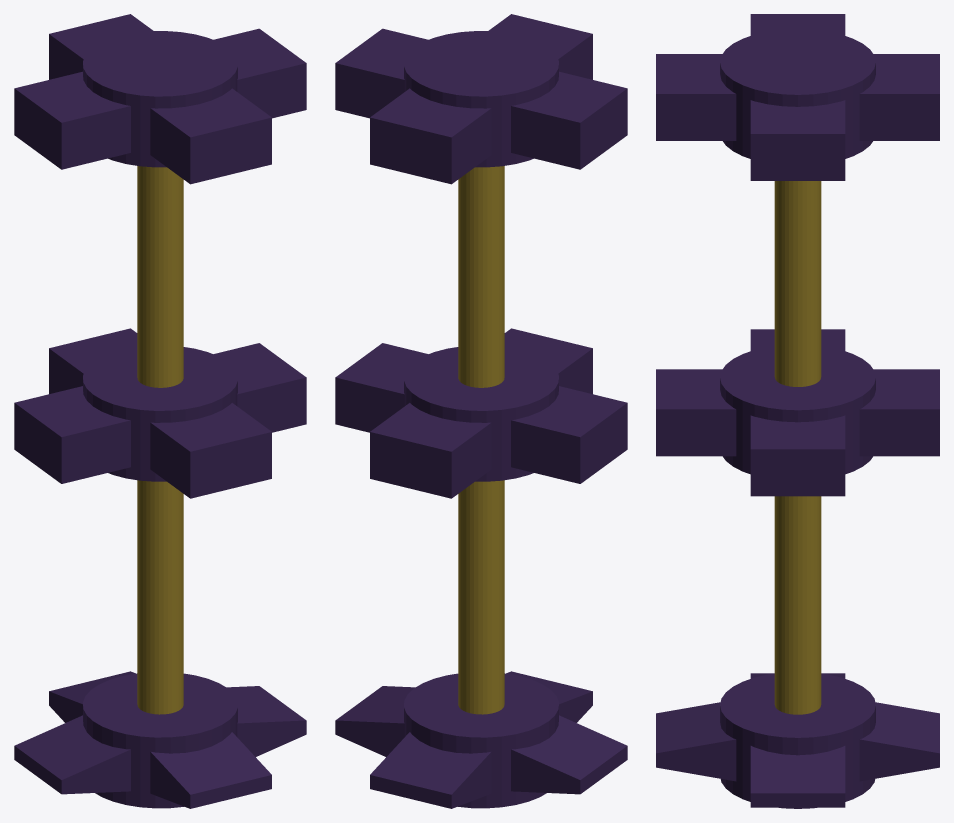
The model's file is tower_3.fbx.
3 views of the same model, side by side, from view 1: azimuth 30°, elevation 25°; view 2: azimuth 150°, elevation 25°; view 3: azimuth 270°, elevation 25° (orthographic).
Parts seen in each view (by area): view 1: tower_base.002; view 2: tower_base.002; view 3: tower_base.002.
Boxes of the visible parts, x1,y1,x2,y2 form: tower_base.002: (14,14,306,808); tower_base.002: (335,14,627,808); tower_base.002: (656,14,939,808).
Bounding box in the file's own units: 600 × 1666 × 600.
